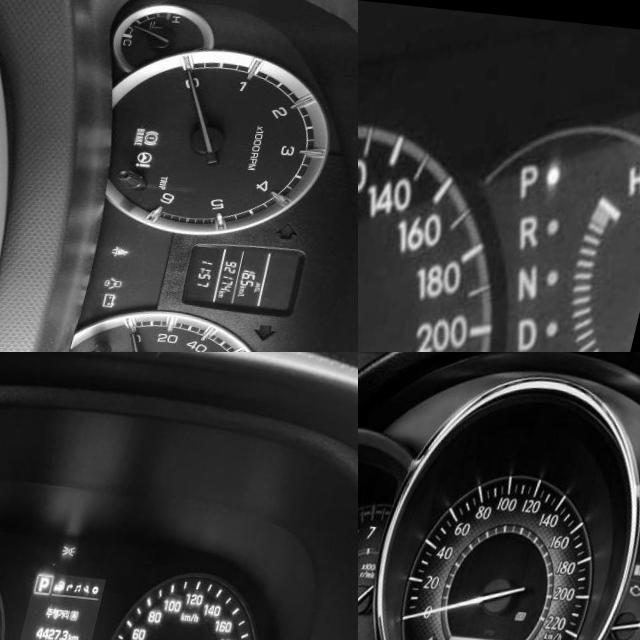High Engine Coolant Temperature: (625, 636, 636, 640)
SideLamp: (74, 537, 89, 550)
